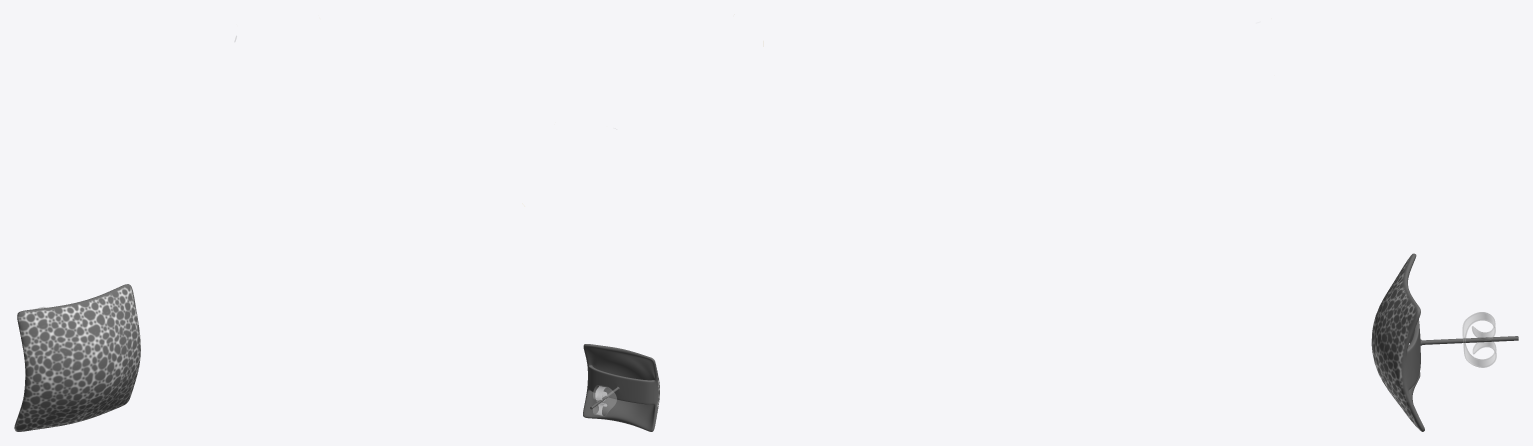
The model's file is Aretes2.glb.
The picture shows the model from 3 angles, left to right: view 1: azimuth 30°, elevation 25°; view 2: azimuth 150°, elevation 25°; view 3: azimuth 270°, elevation 25°; orthographic projection. The views are drawn at different scales.
Parts seen in each view (by area): view 1: 11764_EARINGS_V1_L3.092; view 2: 11764_EARINGS_V1_L3.092; view 3: 11764_EARINGS_V1_L3.092.
Part boxes in pixels (x1,y1,x2,y2): 11764_EARINGS_V1_L3.092: (14, 284, 140, 431); 11764_EARINGS_V1_L3.092: (583, 344, 659, 431); 11764_EARINGS_V1_L3.092: (1371, 253, 1518, 431).
Bounding box in the file's own units: 2.75 × 4.75 × 7.46.
5 materials, 1 textured.
